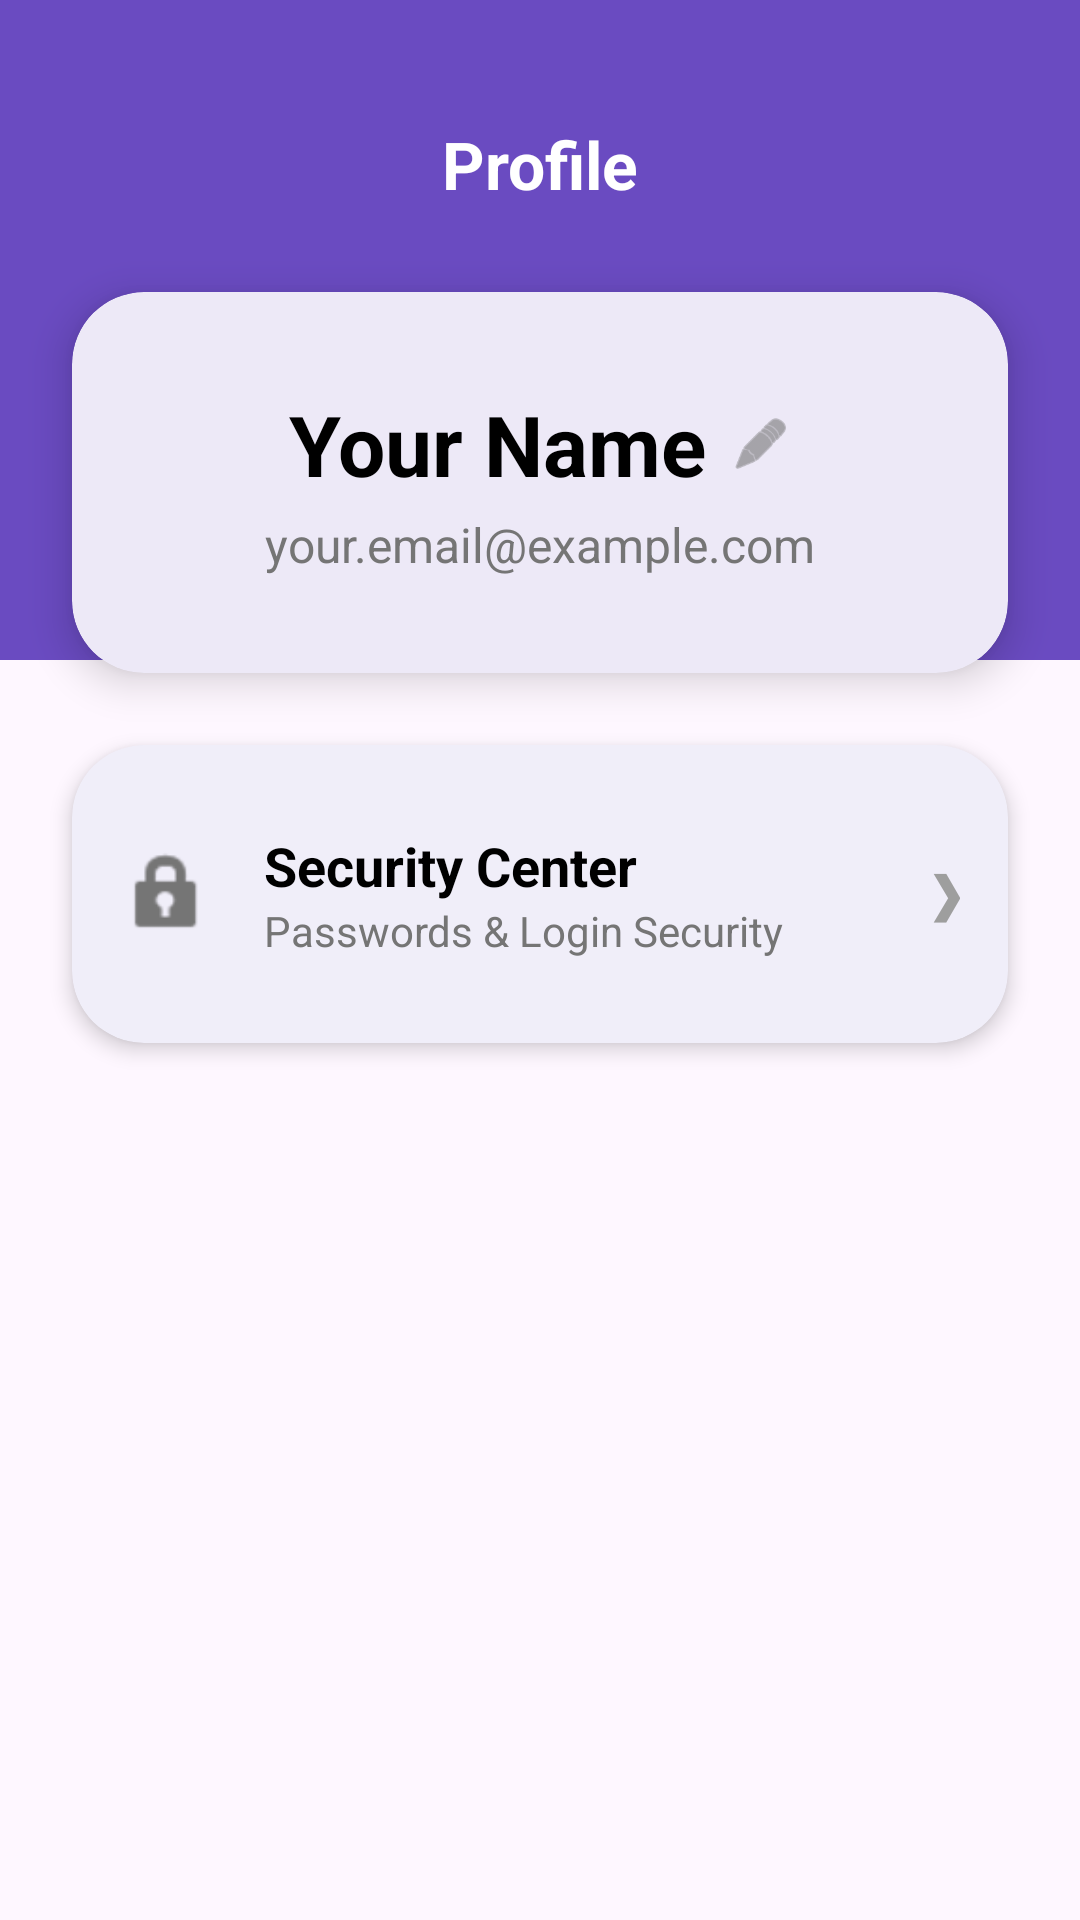

Icons on this 1080px x 1920px Android screen, each with the point to tap as (x=x, y=y):
edit: (x=761, y=443)
lock idle: (x=165, y=891)
